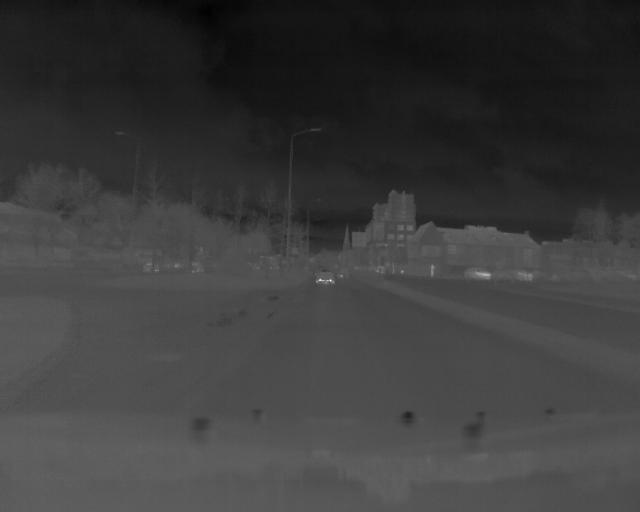car: (464, 265, 499, 282), (314, 268, 341, 290), (142, 259, 162, 276)
